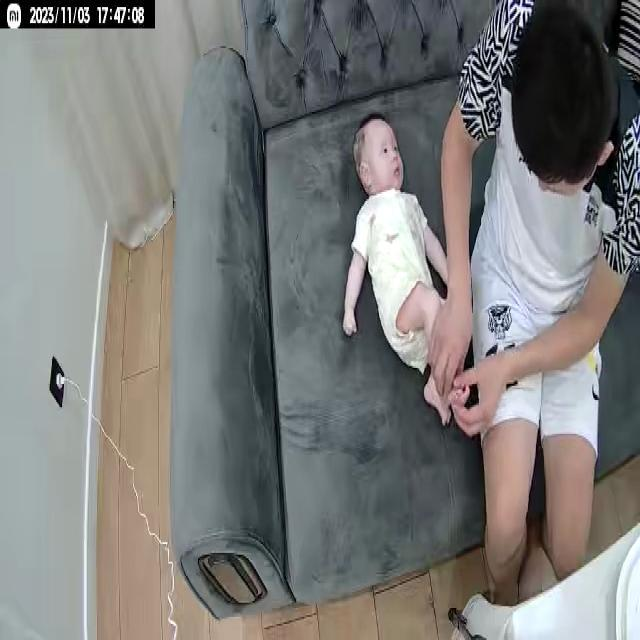baby: (340, 113, 476, 430)
